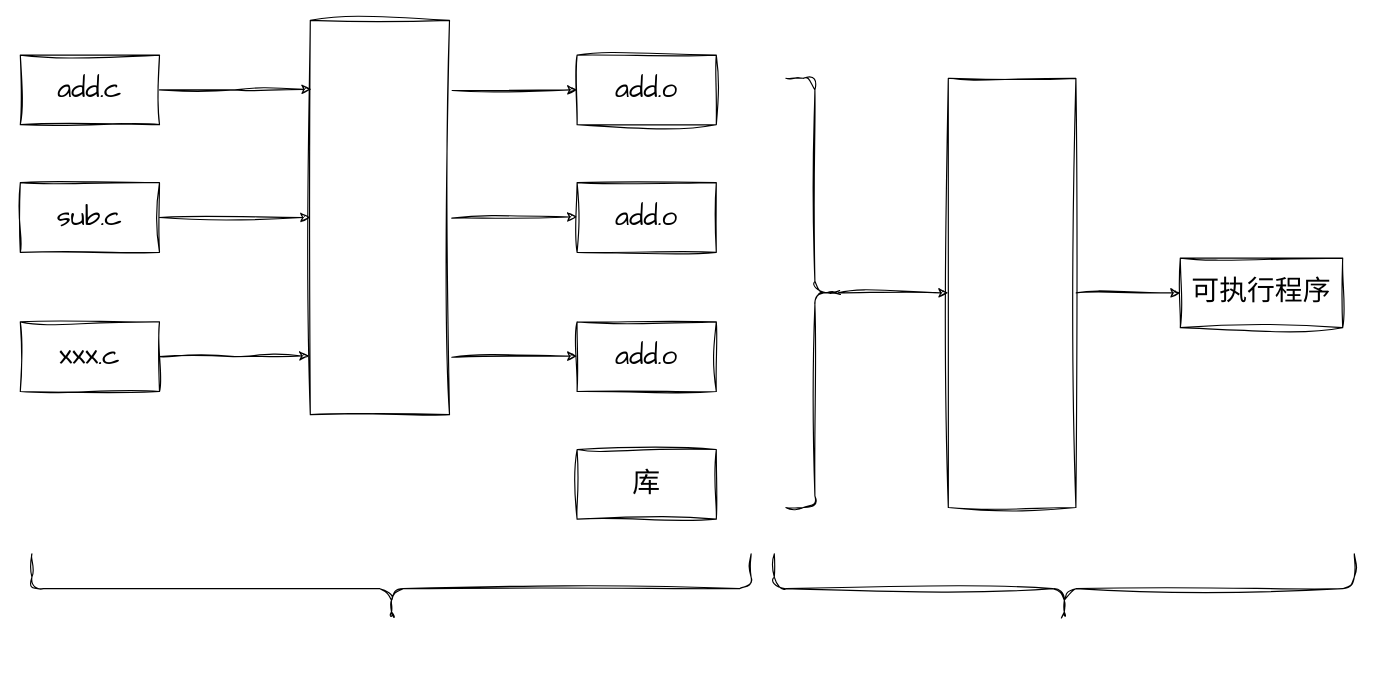
This 1375x679 diagram has some shape labels left out. Here are the shapes that lost their labels. From the top down, the centre of each, then its label:
At point 379,217: "编译器".
At point 1011,292: "链接器".
At point 391,588: "编译".
At point 1063,588: "链接".
